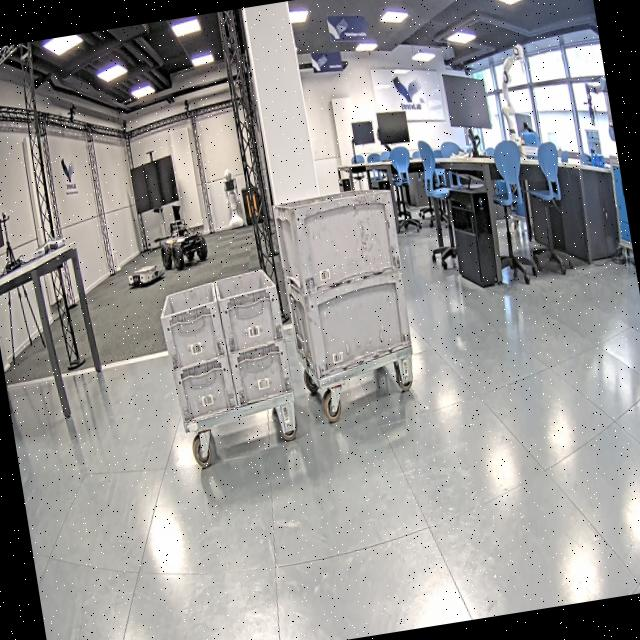Box4G: (276, 185, 406, 291), (286, 274, 416, 374)
Box8G: (217, 272, 285, 354), (158, 288, 226, 364), (172, 356, 238, 422), (230, 346, 296, 401)
